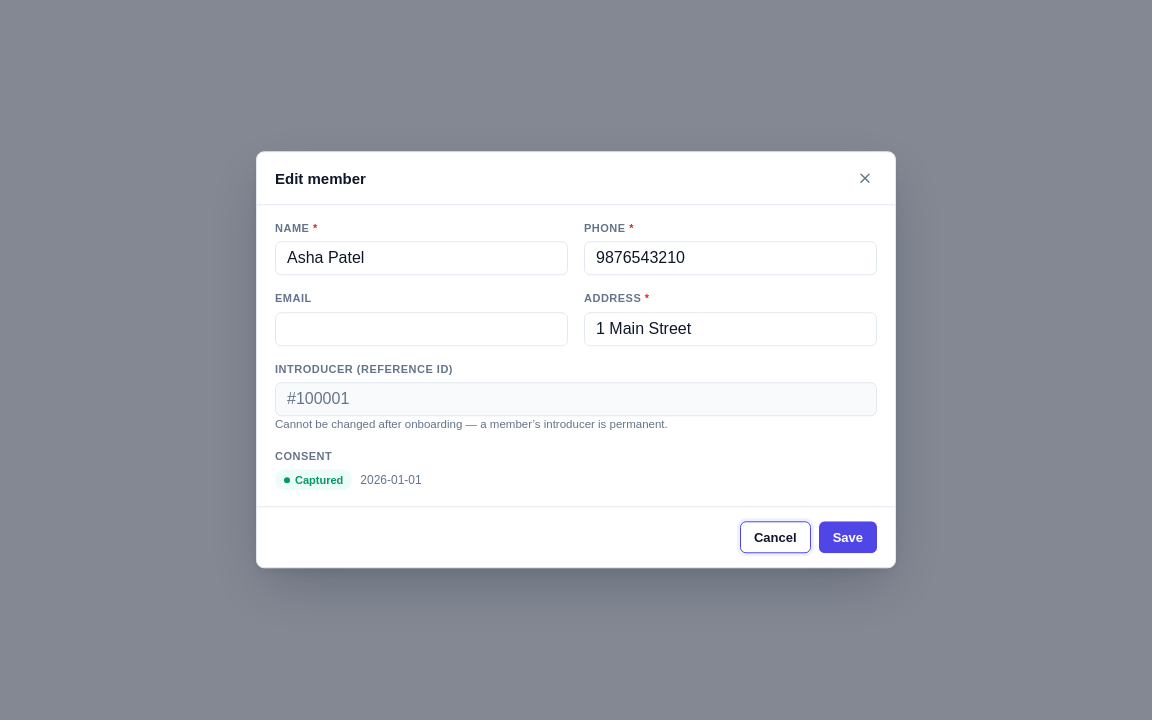
Test case: MemberModal — edit mode › shows a refused-conflict error inline
The image size is (1152, 720).
Click the button "Save" at (848, 538), box [819,522,877,554]
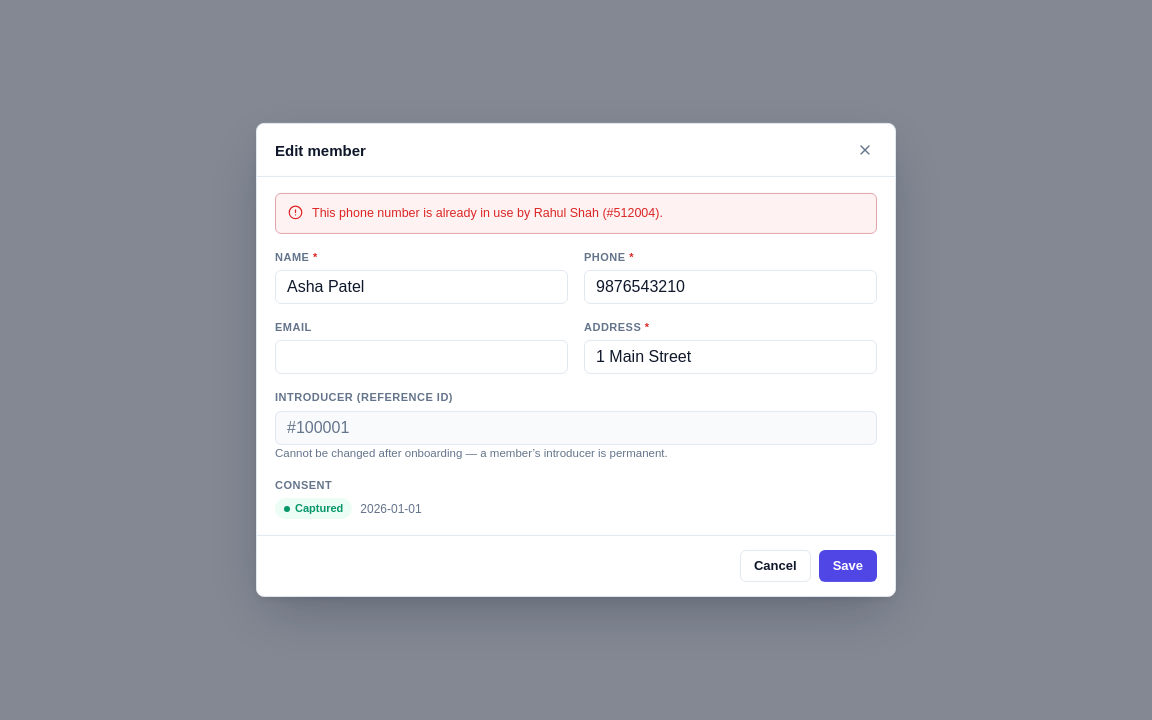
Now the text "This phone number is already in use by Rahul Shah (#512004)." is shown, box [312,204,663,223]
